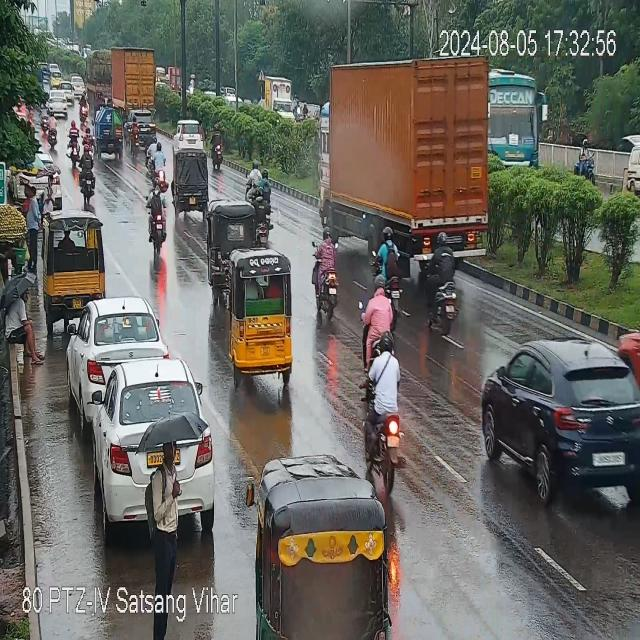2-wheelers: (354, 268, 404, 486), (419, 233, 464, 329), (373, 224, 411, 318), (314, 227, 347, 314), (146, 182, 171, 253), (240, 162, 277, 207), (574, 136, 599, 186), (145, 136, 168, 184), (68, 115, 86, 163), (81, 143, 95, 204), (211, 124, 224, 172), (46, 110, 60, 148)
auto: (249, 464, 391, 638), (228, 254, 300, 383), (41, 211, 109, 316), (202, 201, 258, 290), (172, 148, 217, 213), (96, 105, 125, 163)
bus: (492, 62, 546, 172)
car: (483, 343, 640, 518), (92, 361, 216, 527), (68, 299, 165, 398), (126, 107, 156, 146), (174, 120, 212, 150), (48, 91, 70, 116), (71, 74, 86, 95), (51, 71, 62, 89)
pedestrian: (148, 442, 184, 578), (4, 277, 41, 363), (21, 182, 45, 263), (48, 169, 65, 209)
truck: (325, 55, 494, 259), (97, 48, 167, 115), (265, 73, 296, 124), (168, 64, 182, 95)
